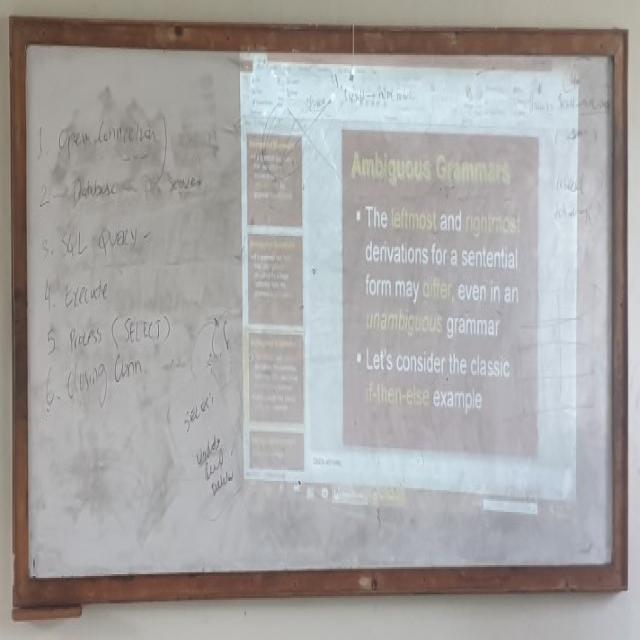Slide: (237, 33, 580, 536)
White-board: (19, 28, 619, 598)
